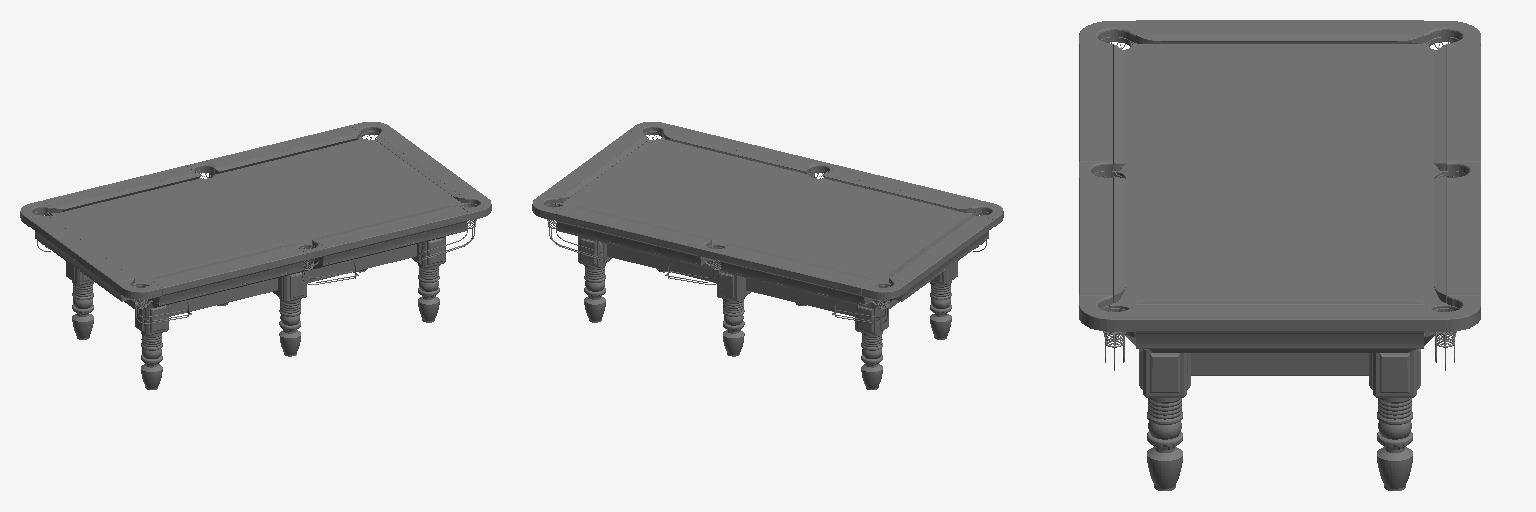
robot.urdf — pool_table:
<?xml version="1.0"?>
<robot name="pool_table">
  <link name="base">
    <visual>
      <geometry>
        <mesh filename="pool_table.obj" scale="1 1 1"/>
      </geometry>
      <material name="gray">
        <color rgba="0.5 0.5 0.5 1.0"/>
      </material>
    </visual>
    <collision concave="yes">
      <geometry>
        <mesh filename="pool_table.obj" scale="1 1 1"/>
      </geometry>
    </collision>
    <inertial>
      <mass value="1.000"/>
      <inertia
          ixx="0.238376" ixy="0.000000" ixz="0.000000"
          iyy="0.618538" iyz="0.000000"
          izz="0.743001"/>
      <origin xyz="0.000000 0.000000 0.412686" rpy="0 0 0"/>
    </inertial>
  </link>
</robot>

--- What the picture shows (computed from the rendered views, not written in the file) ---
Views: 3 orthographic renders of the robot side by side, from view 1: azimuth 30°, elevation 25°; view 2: azimuth 150°, elevation 25°; view 3: azimuth 270°, elevation 25°.
Model pool_table with 1 links and 0 joints (none), rooted at base, posed all joints at 0.
Visible links, largest first — view 1: base; view 2: base; view 3: base.
Boxes of the visible links, x1=… form: base: x1=20, y1=122, x2=491, y2=389; base: x1=532, y1=122, x2=1003, y2=389; base: x1=1079, y1=20, x2=1480, y2=490.
Bounding box of the posed robot: 2.6 × 1.48 × 0.8267 m (x, y, z).
Meshes: 1 distinct files referenced, 1 mesh visuals loaded (1 OBJ).
